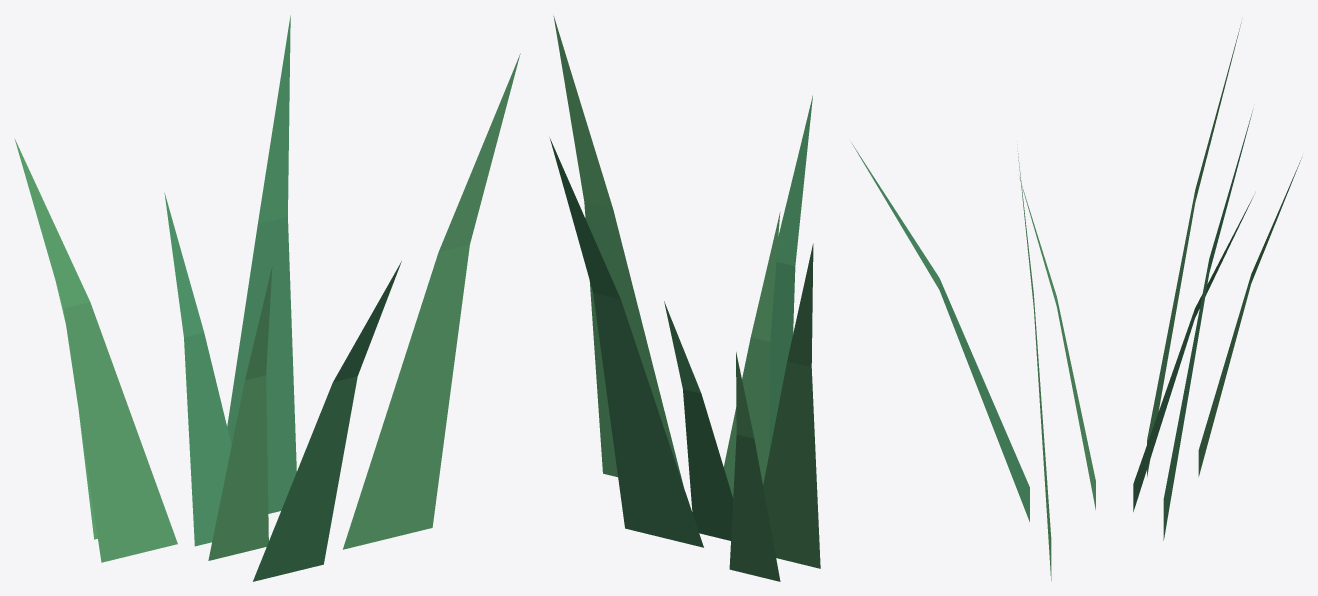
The model's file is Grass_B.glb.
3 views of the same model, side by side, from view 1: azimuth 30°, elevation 25°; view 2: azimuth 150°, elevation 25°; view 3: azimuth 270°, elevation 25° (orthographic). The views are drawn at different scales.
Parts seen in each view (by area): view 1: Grass_B; view 2: Grass_B; view 3: Grass_B.
Part boxes in pixels (box(x1,y1,x2,y2)): Grass_B: box(14, 15, 520, 581); Grass_B: box(550, 16, 820, 581); Grass_B: box(851, 22, 1301, 580).
Bounding box in the file's own units: 0.3086 × 0.3514 × 0.3025.
